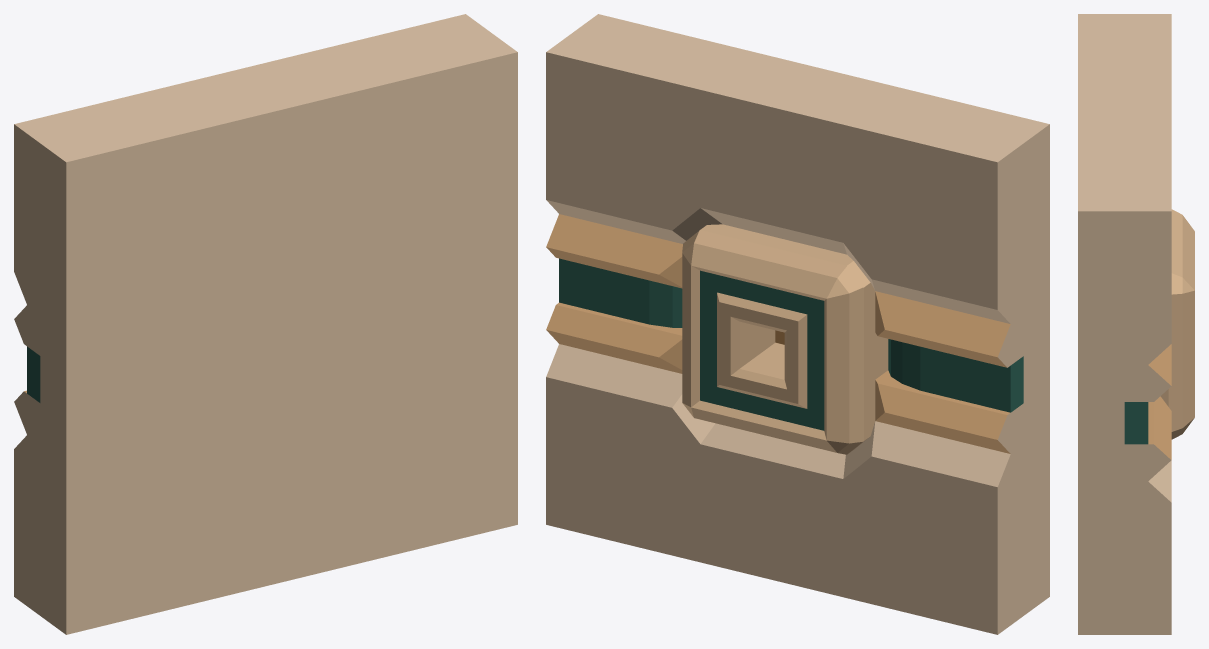
Rendered from Puzzle_Wall_Conduit_Keyhole_Straight.fbx.
3 views of the same model, side by side, from view 1: azimuth 30°, elevation 25°; view 2: azimuth 150°, elevation 25°; view 3: azimuth 270°, elevation 25° (orthographic). The views are drawn at different scales.
Parts seen in each view (by area): view 1: Sandstone_Trim.Sandstone_Trim.Sandstone_Trim.Sandstone_Trim.; view 2: Sandstone_Trim.Sandstone_Trim.Sandstone_Trim.Sandstone_Trim., object5, Sandstone_5.Sandstone_5.Sandstone_5.Sandstone_5.Sandstone_5., object4, object2, object1; view 3: Sandstone_Trim.Sandstone_Trim.Sandstone_Trim.Sandstone_Trim., object5, Sandstone_5.Sandstone_5.Sandstone_5.Sandstone_5.Sandstone_5., object1.
Boxes of the visible parts, bbox=[...] form: Sandstone_Trim.Sandstone_Trim.Sandstone_Trim.Sandstone_Trim.: bbox=[14, 14, 517, 634]; Sandstone_Trim.Sandstone_Trim.Sandstone_Trim.Sandstone_Trim.: bbox=[546, 14, 1049, 634]; object5: bbox=[682, 224, 888, 454]; Sandstone_5.Sandstone_5.Sandstone_5.Sandstone_5.Sandstone_5.: bbox=[546, 214, 1010, 453]; object4: bbox=[700, 270, 824, 430]; object2: bbox=[888, 339, 1023, 412]; object1: bbox=[559, 258, 682, 327]; Sandstone_Trim.Sandstone_Trim.Sandstone_Trim.Sandstone_Trim.: bbox=[1078, 14, 1171, 634]; object5: bbox=[1160, 209, 1194, 439]; Sandstone_5.Sandstone_5.Sandstone_5.Sandstone_5.Sandstone_5.: bbox=[1148, 344, 1171, 459]; object1: bbox=[1124, 402, 1148, 444].
Size of the model in its own units: 1 by 1 by 0.25.
